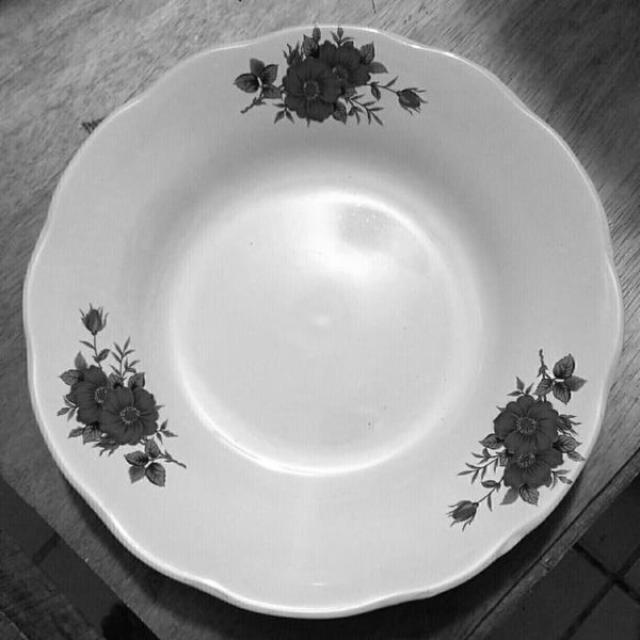plate: (24, 24, 624, 619)
